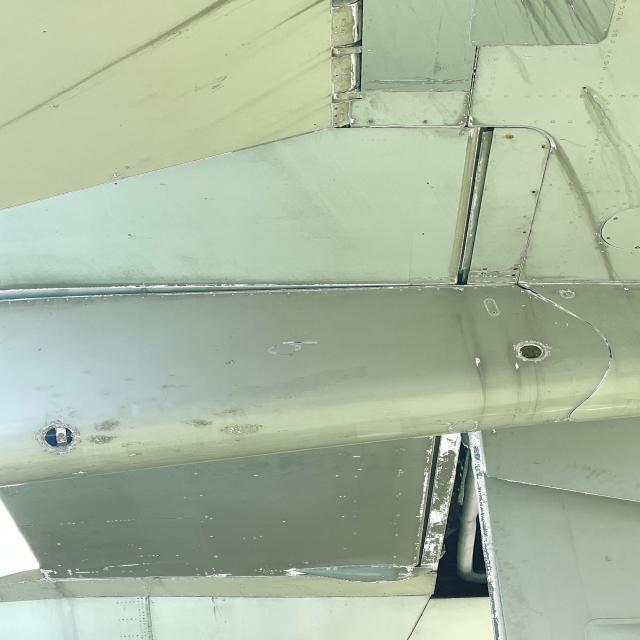crack: (283, 336, 346, 356)
